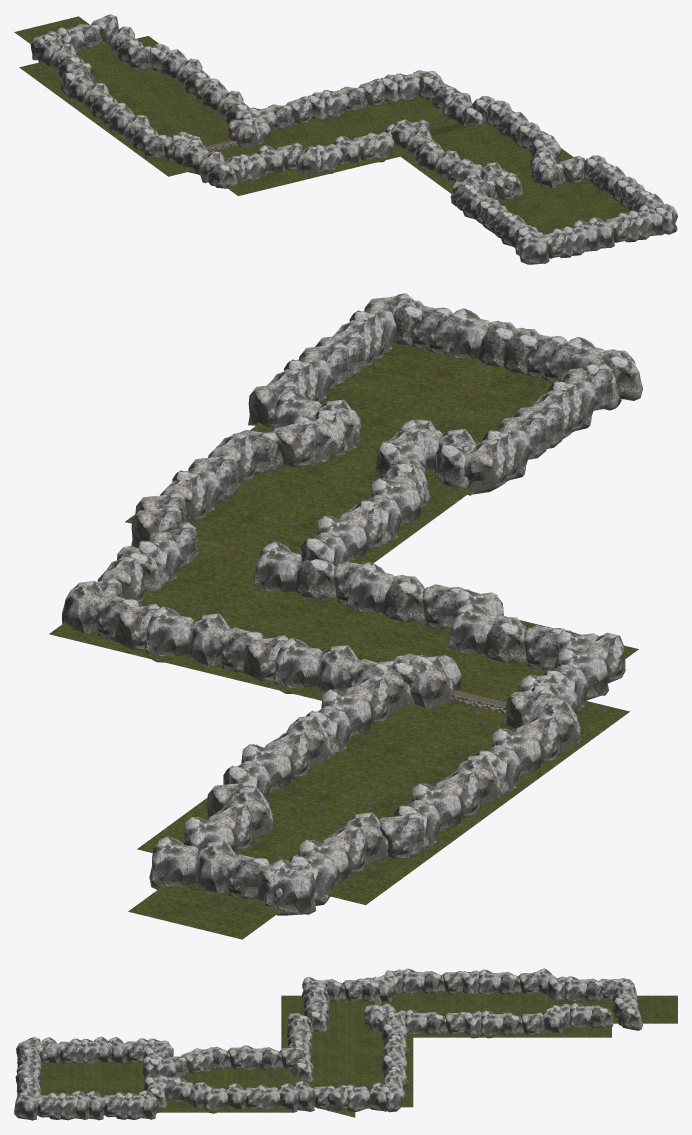
The model's file is Stage.fbx.
3 views of the same model, one above another, from view 1: azimuth 30°, elevation 25°; view 2: azimuth 150°, elevation 25°; view 3: azimuth 270°, elevation 25° (orthographic). The views are drawn at different scales.
Visible parts, largest first — view 1: Plane__12_, Plane__17_, Plane__21_, Plane__18_, Plane__23_, Plane, Plane__11_, Plane__1_, Plane__9_, Plane__2_, Plane__16_, Plane__19_ (+60 smaller); view 2: Plane__14_, Plane__15_, Plane__17_, Plane__6_, Plane__18_, Plane__23_, Plane__13_, Plane__2_, Plane__12_, Plane__10_, Plane__5_, Plane__24_ (+91 smaller); view 3: Plane__21_, Plane__15_, Plane__13_, Plane__11_, Plane__2_, Plane__1_, Plane__9_, Plane__5_, Plane__6_, Plane__4_, Plane__20_, Plane__19_ (+89 smaller).
Part boxes in pixels (box(x1,y1,x2,y2)): Plane__12_: box(528, 179, 615, 212); Plane__17_: box(121, 70, 195, 106); Plane__21_: box(309, 104, 394, 137); Plane__18_: box(159, 97, 228, 133); Plane__23_: box(452, 123, 527, 158); Plane: box(19, 51, 120, 94); Plane__11_: box(497, 186, 564, 222); Plane__1_: box(57, 79, 157, 121); Plane__9_: box(389, 131, 488, 174); Plane__2_: box(94, 106, 195, 149); Plane__16_: box(84, 36, 158, 78); Plane__19_: box(196, 125, 294, 158); Plane__14_: box(345, 342, 488, 404); Plane__15_: box(128, 884, 283, 939); Plane__17_: box(203, 764, 383, 828); Plane__6_: box(230, 589, 382, 641); Plane__18_: box(317, 717, 449, 780); Plane__23_: box(125, 485, 304, 549); Plane__13_: box(436, 365, 553, 420); Plane__2_: box(384, 732, 563, 808); Plane__12_: box(255, 382, 434, 452); Plane__10_: box(305, 453, 474, 529); Plane__5_: box(344, 613, 524, 668); Plane__24_: box(238, 425, 370, 501); Plane__21_: box(347, 1051, 413, 1079); Plane__15_: box(612, 995, 677, 1023); Plane__13_: box(41, 1060, 93, 1084); Plane__11_: box(93, 1060, 145, 1084); Plane__2_: box(413, 991, 479, 1009); Plane__1_: box(479, 992, 545, 1009); Plane__9_: box(225, 1066, 291, 1084); Plane__5_: box(281, 1023, 347, 1051); Plane__6_: box(310, 1051, 347, 1079); Plane__4_: box(281, 995, 347, 1023); Plane__20_: box(347, 1029, 413, 1051); Plane__19_: box(347, 1009, 413, 1037).
Size of what is drawn, in the model's own units: 10158 by 1119 by 20081.
